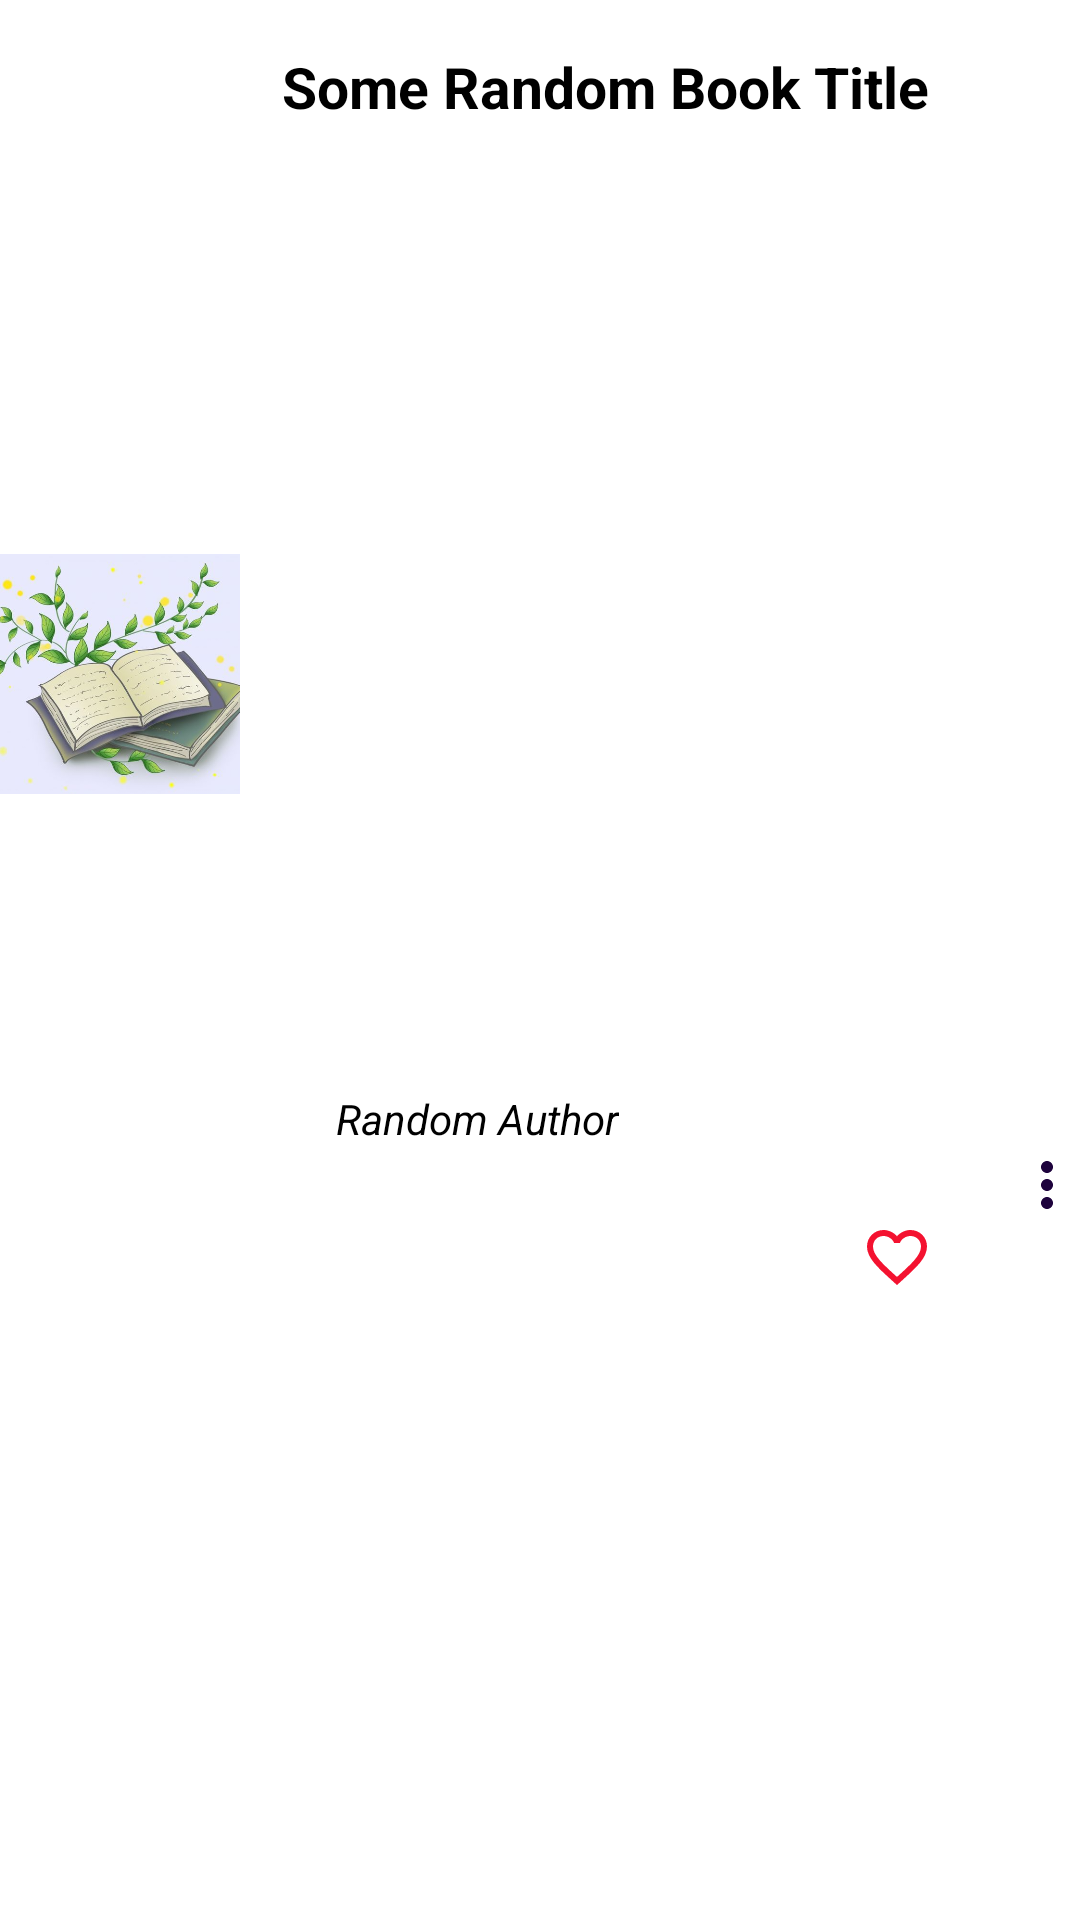

Where to tap for icons on this 1080 x 1920 app screen, as [x,y]:
booksmall: [120,675]
favorite border: [897,1257]
more vert: [1047,1185]
